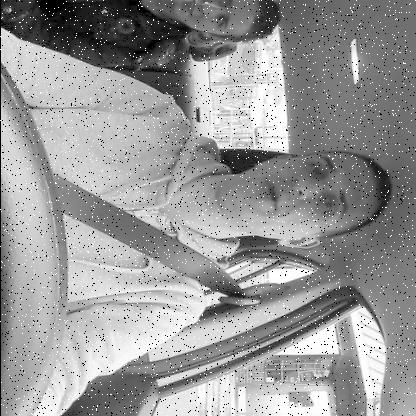seatbelt: (41, 124, 400, 306)
